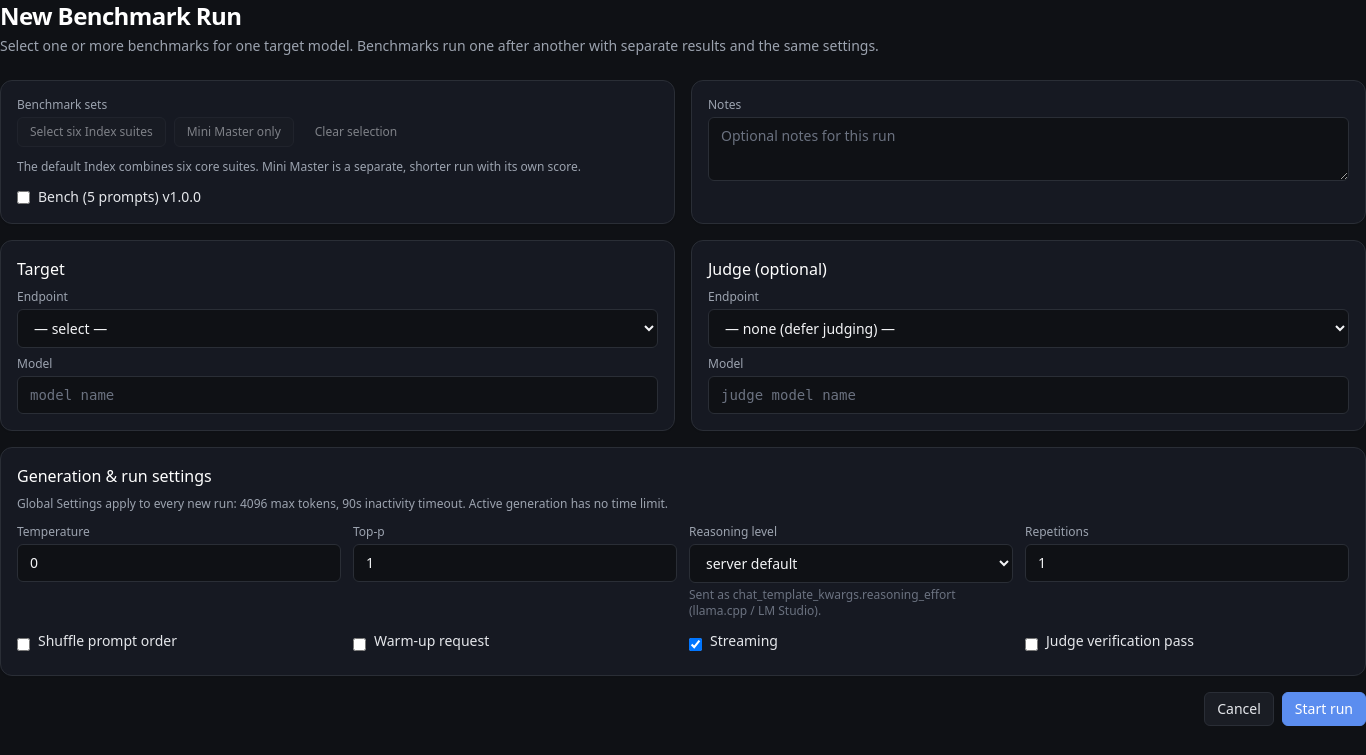
Test: New Run form validation › prefills the target model from /v1/models when a single model is discovered
The image size is (1366, 755).
Expected: the text "Bench (5 prompts) v1.0.0" is shown, [38,187,201,207]
Click the checkbox labelled "Bench (5 prompts) v1.0.0" at [24, 198], box [17,191,30,204]
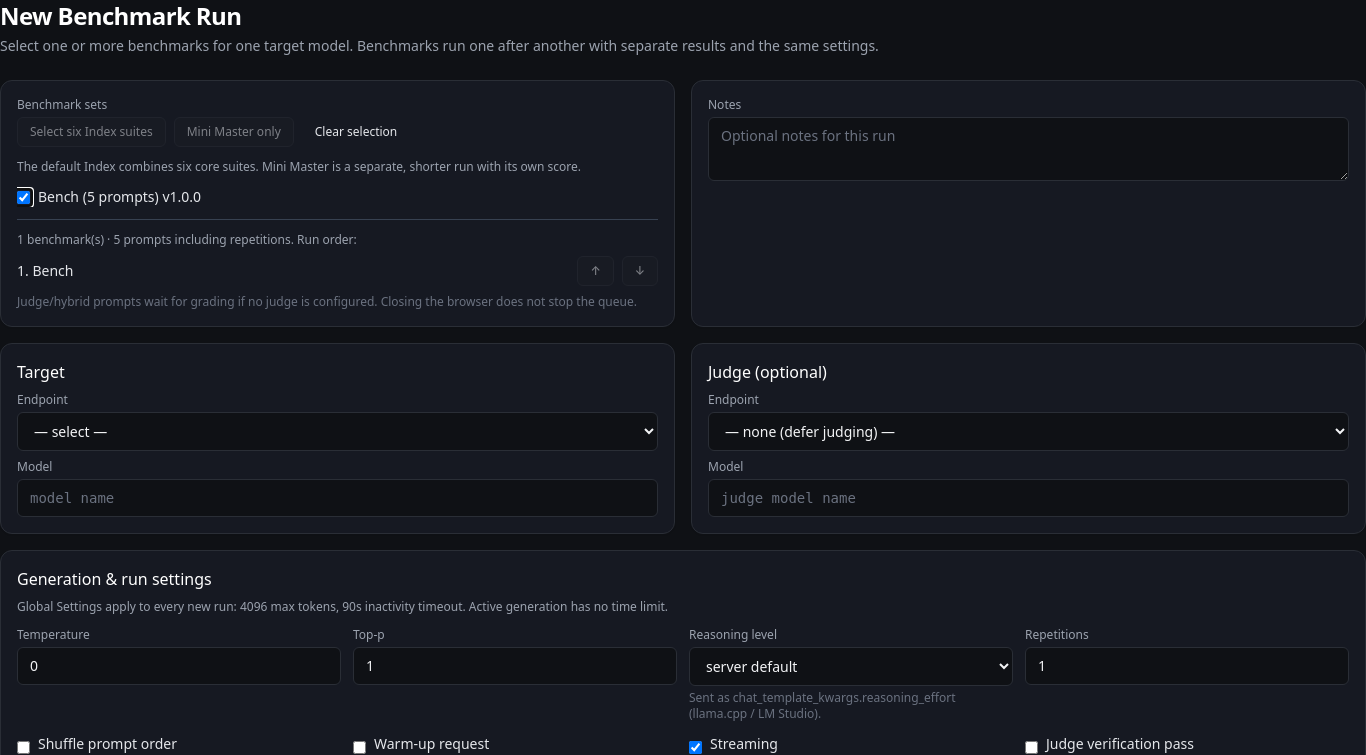
Select "Local" in the 1st dropdown at [338, 432], box [17,412,658,451]
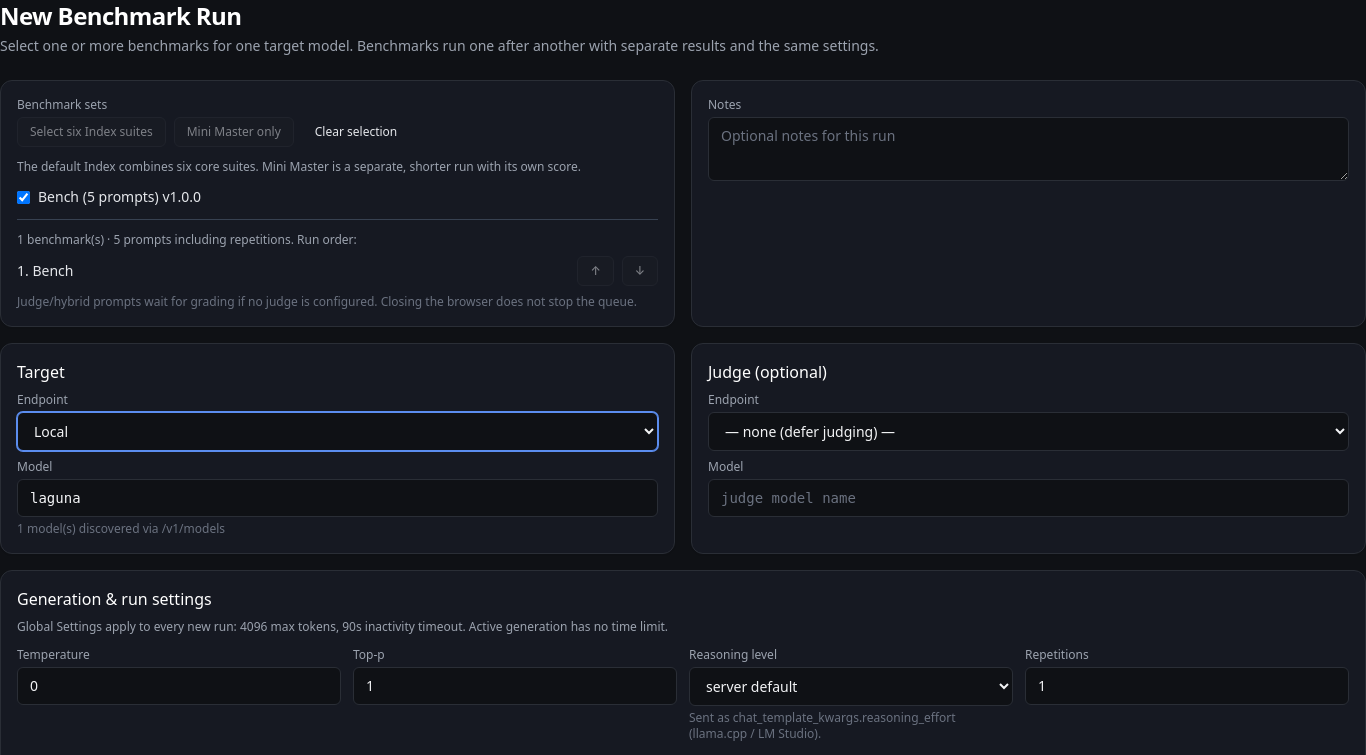
Now the field showing "laguna" is shown, box [17,479,658,517]
Now the text "1 model(s) discovered via /v1/models" is shown, box [17,520,225,537]
